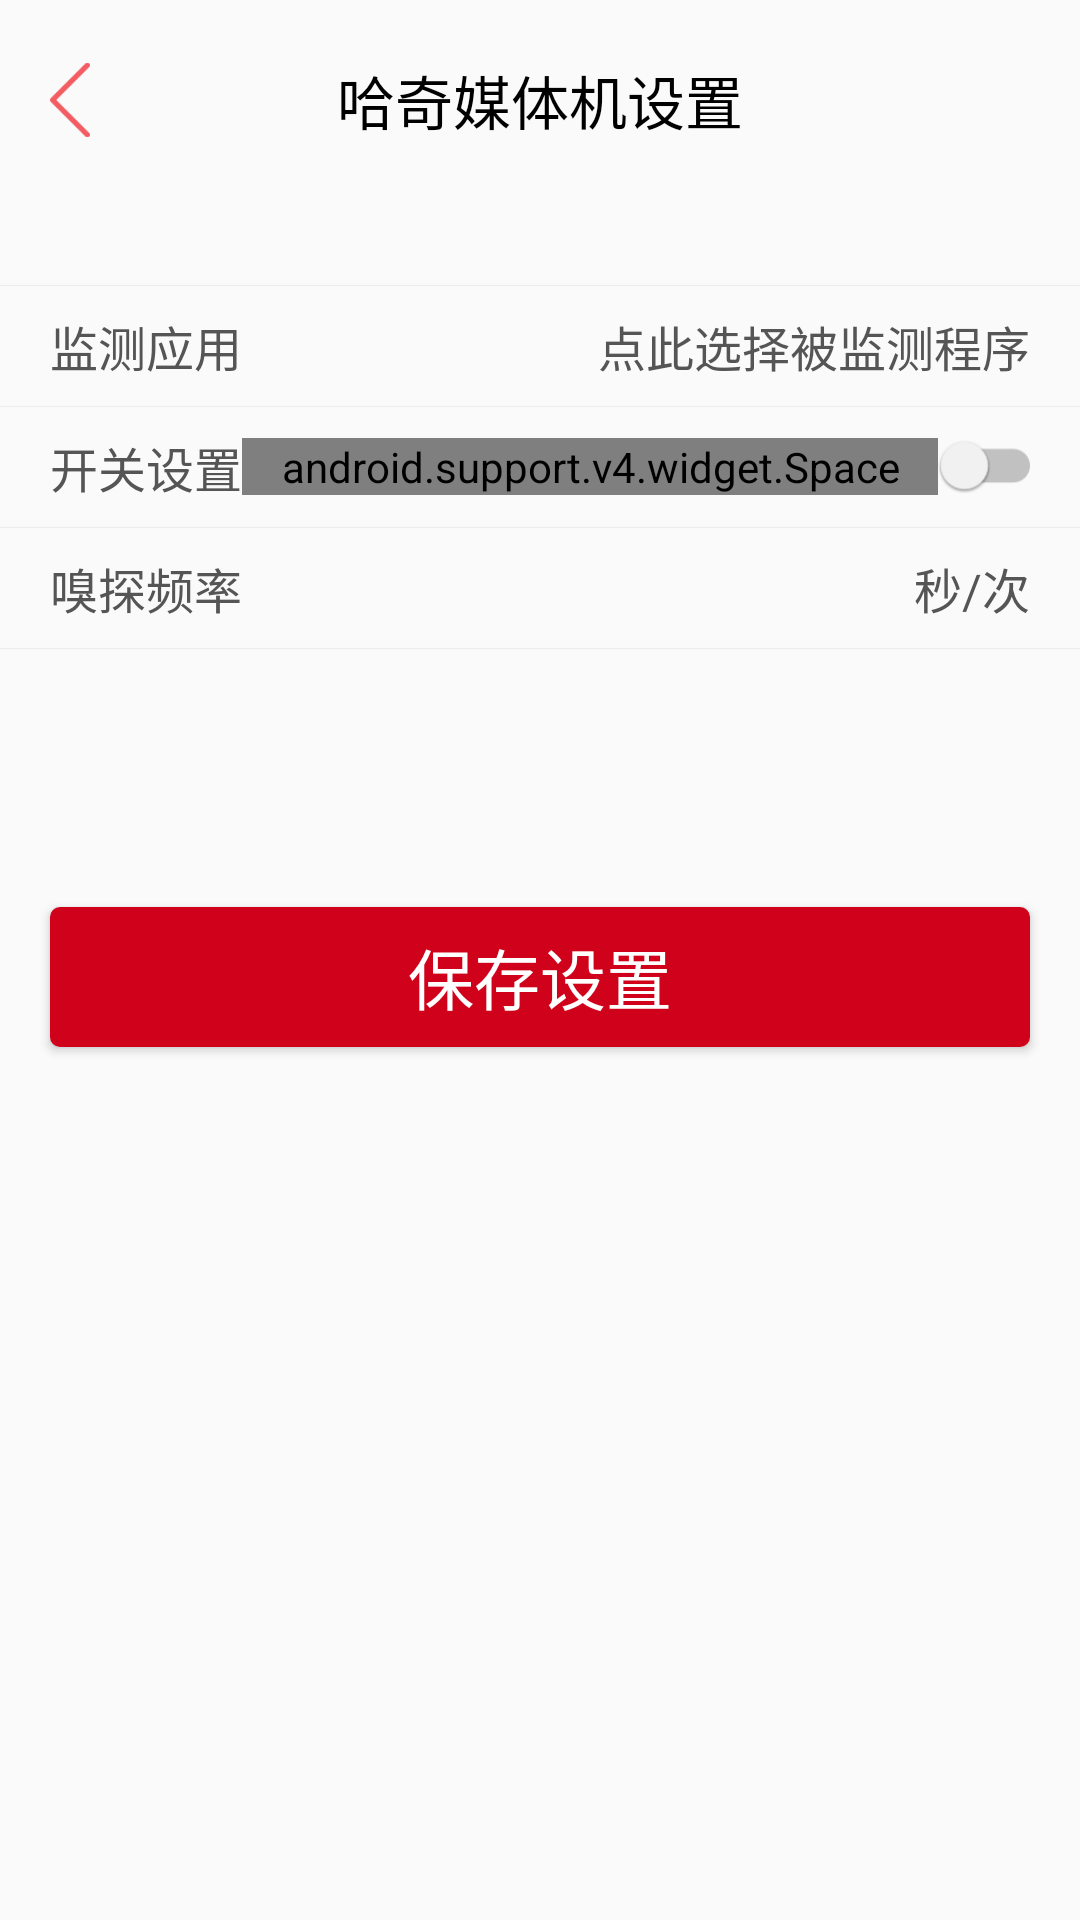

Icon click points for this 1080 x 1920 phone screenshot, format [x,y]:
back: [70,100]
